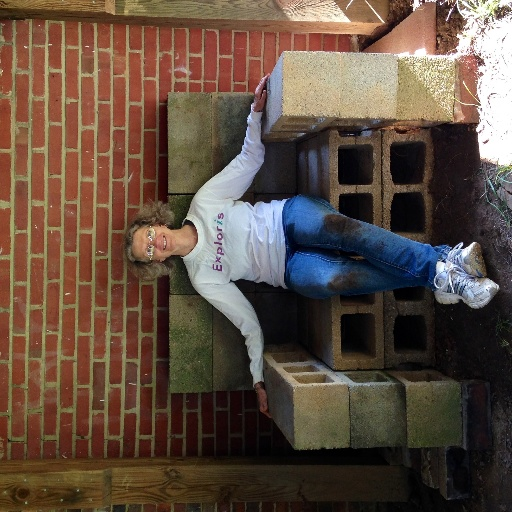hand: (256, 382, 272, 421), (253, 76, 269, 109)
